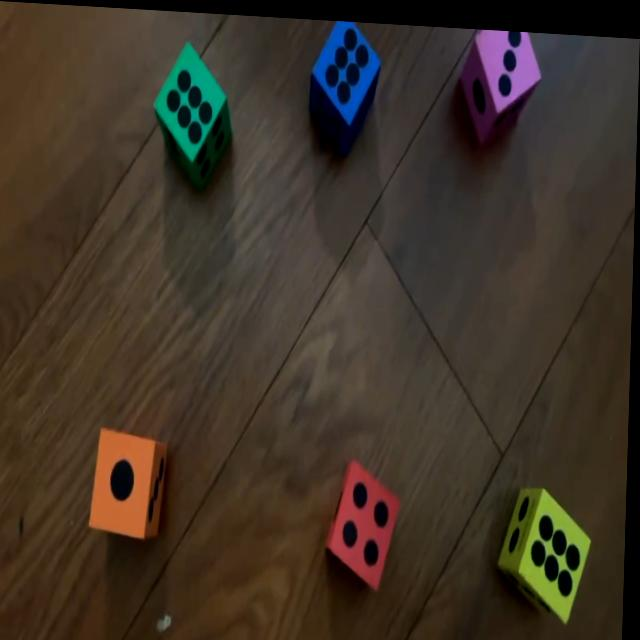blue_block: (310, 15, 383, 144)
red_block: (328, 453, 404, 585)
